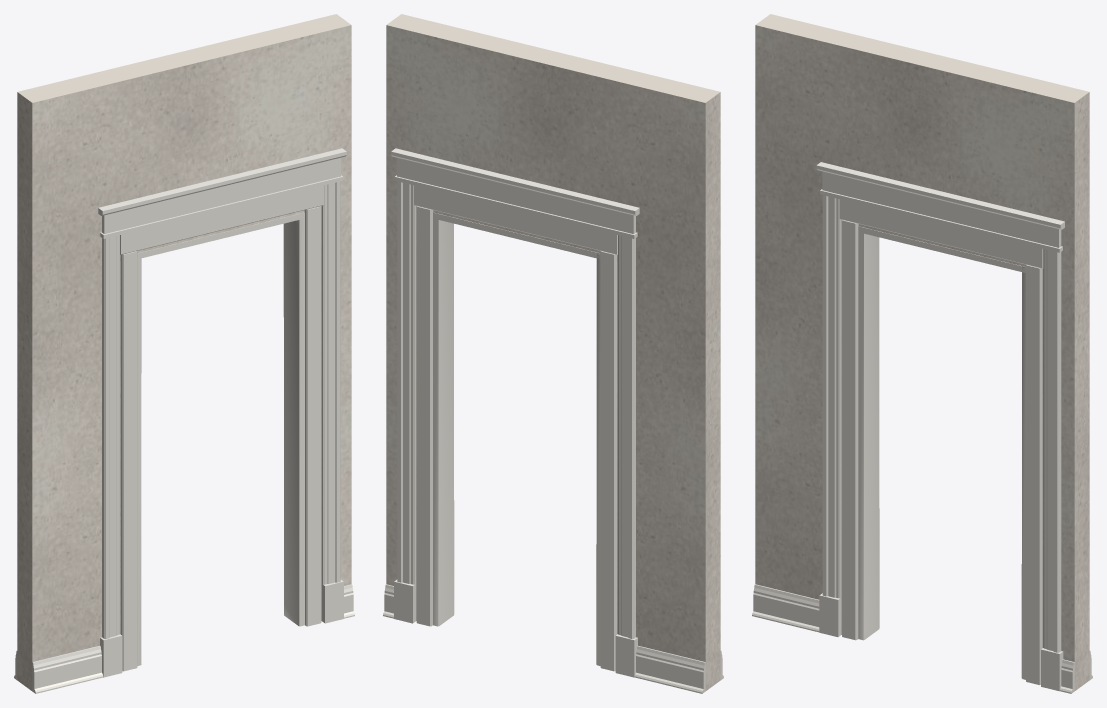
Rendered from iw_end_doorway.glb.
The picture shows the model from 3 angles, left to right: view 1: azimuth 30°, elevation 25°; view 2: azimuth 150°, elevation 25°; view 3: azimuth 330°, elevation 25°; orthographic projection.
Parts seen in each view (by area): view 1: iw_end_doorway_plaster, iw_end_doorway_frame, molduras; view 2: iw_end_doorway_plaster, iw_end_doorway_frame, molduras; view 3: iw_end_doorway_plaster, iw_end_doorway_frame, molduras.
Part boxes in pixels (<box>): iw_end_doorway_plaster: <box>17,14,351,690</box>; iw_end_doorway_frame: <box>120,185,323,671</box>; molduras: <box>14,148,354,693</box>; iw_end_doorway_plaster: <box>386,14,720,690</box>; iw_end_doorway_frame: <box>414,185,617,671</box>; molduras: <box>383,148,723,693</box>; iw_end_doorway_plaster: <box>755,14,1089,690</box>; iw_end_doorway_frame: <box>839,199,1043,684</box>; molduras: <box>752,162,1092,693</box>.
Bounding box in the file's own units: 1.7 × 2.99 × 0.224.
3 materials, 1 textured.
